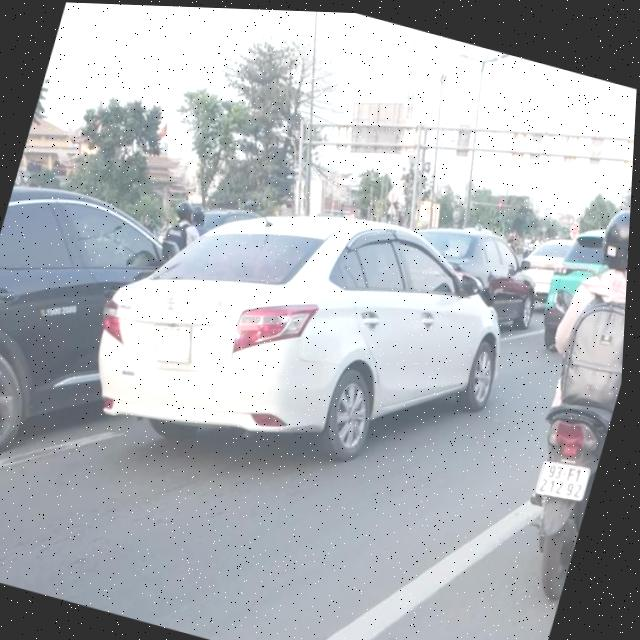car: (67, 155, 539, 526)
motorcycle: (491, 388, 614, 607)
plate: (139, 315, 205, 372), (530, 452, 595, 509)
